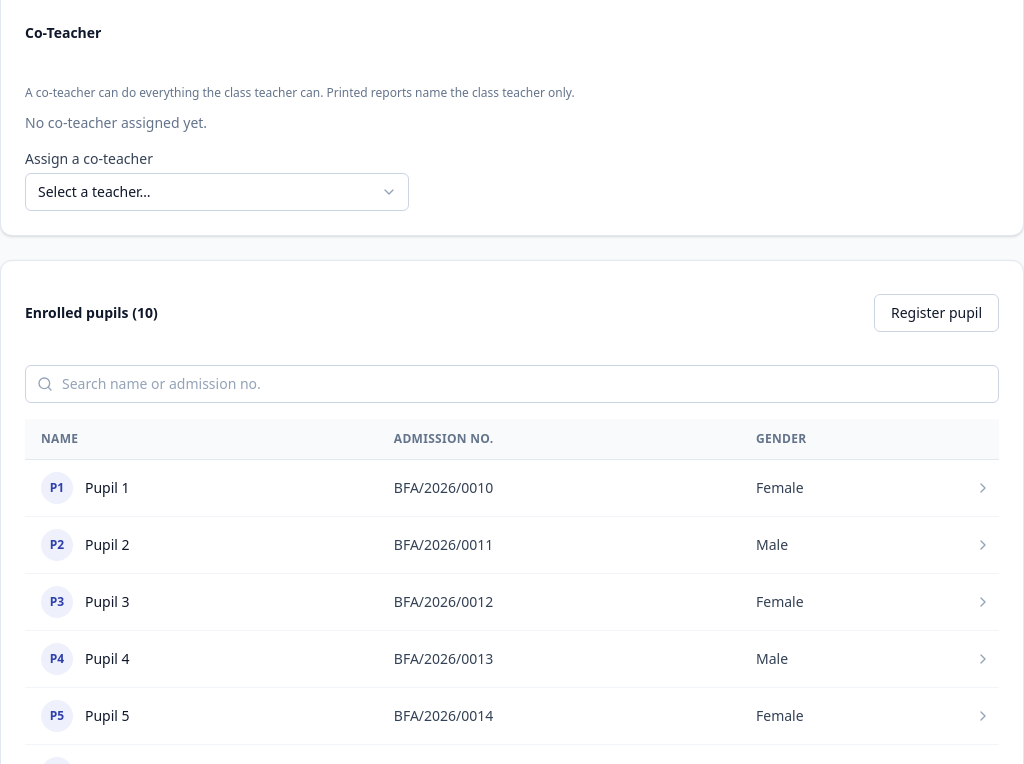
Scenario: ClassDetailPage - enrolled students roster › filters the roster by name or admission number once search appears
The width and height of the screenshot is (1024, 764).
(page scrolled)
expect the text "Pupil 1" is shown: met, box top-left (85, 478), bottom-right (130, 497)
Type "Ada" into the search field labelled "Search name or admission no." at (512, 384), box top-left (25, 365), bottom-right (999, 403)
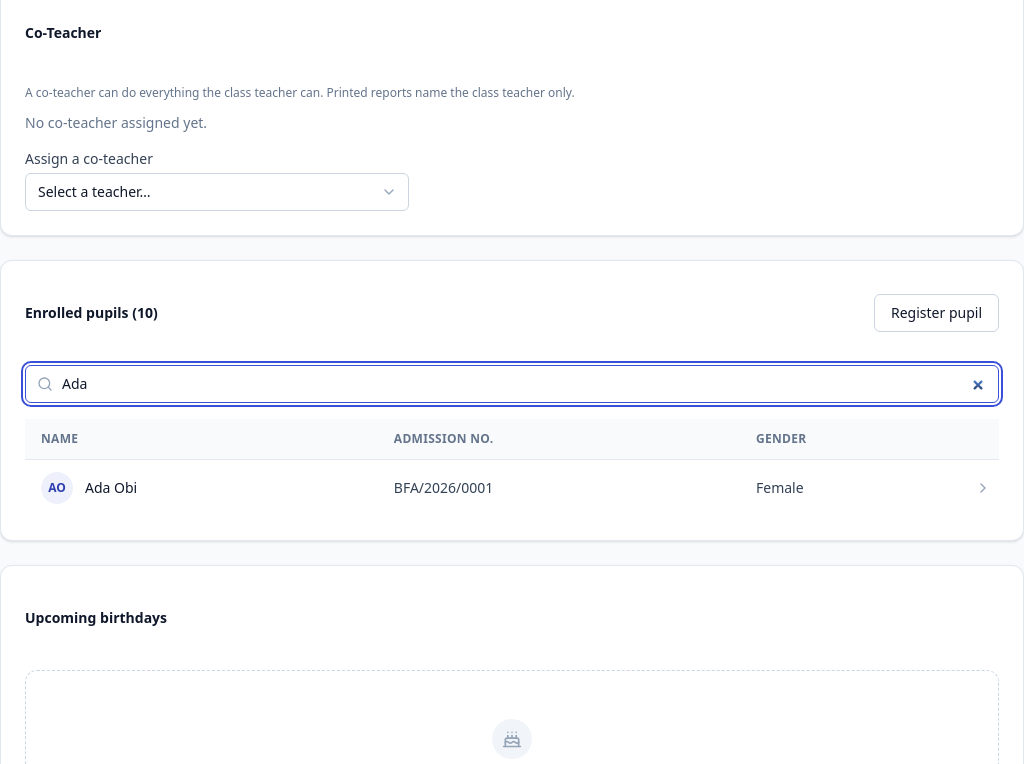
expect the text "Ada Obi" is shown: met, box top-left (85, 478), bottom-right (137, 497)
expect the text "Pupil 1" is gone: met
